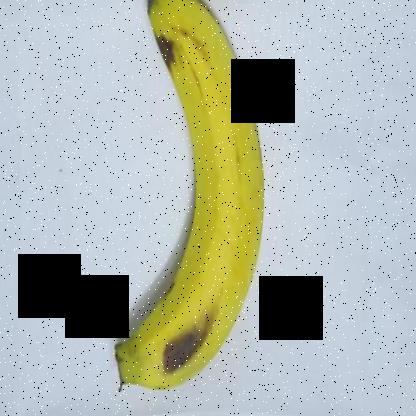freshripe: (98, 0, 277, 415)
